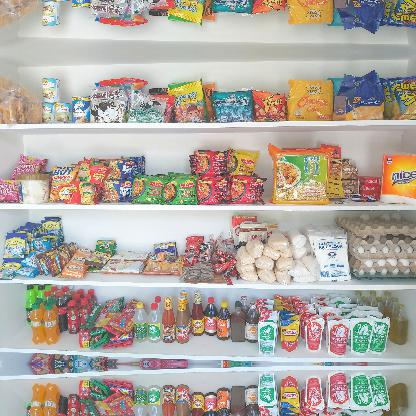Lady-s-Choice: (15, 173, 49, 203)
